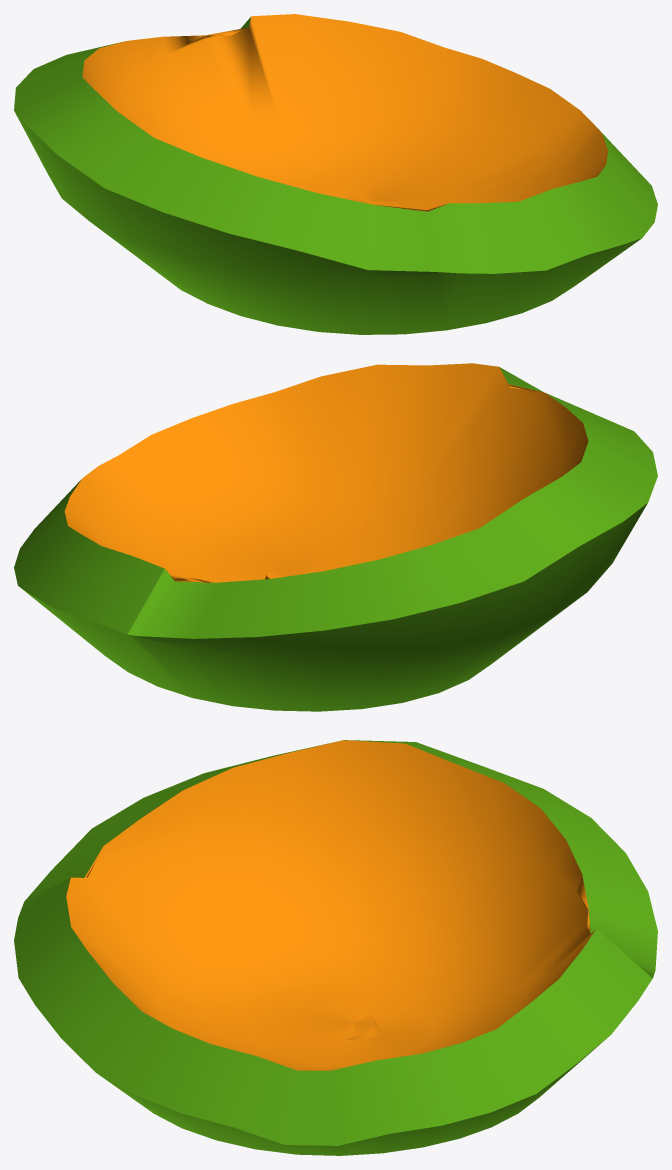
Rendered from GoodFruitBroken04.FBX.
3 renders of one model, top to bottom at view 1: azimuth 30°, elevation 25°; view 2: azimuth 150°, elevation 25°; view 3: azimuth 270°, elevation 25°, orthographic. The views are drawn at different scales.
Parts seen in each view (by area): view 1: GoodFruitBroken04; view 2: GoodFruitBroken04; view 3: GoodFruitBroken04.
Part boxes in pixels (bbox=[...]): GoodFruitBroken04: bbox=[14, 14, 657, 334]; GoodFruitBroken04: bbox=[14, 363, 657, 711]; GoodFruitBroken04: bbox=[14, 740, 657, 1155].
Bounding box in the file's own units: 6.21 × 2.96 × 6.24.
